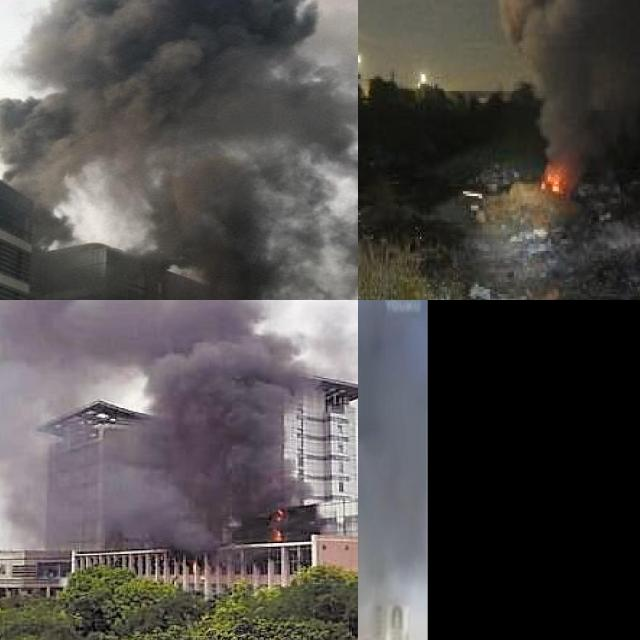fire: (540, 158, 568, 191), (265, 510, 287, 540)
smoke: (0, 0, 358, 300), (0, 300, 352, 550), (482, 0, 640, 169), (358, 300, 424, 640)
